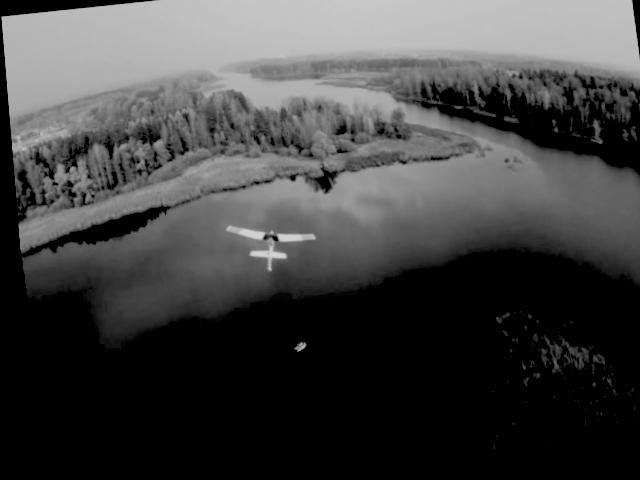hedef: (216, 209, 319, 285)
